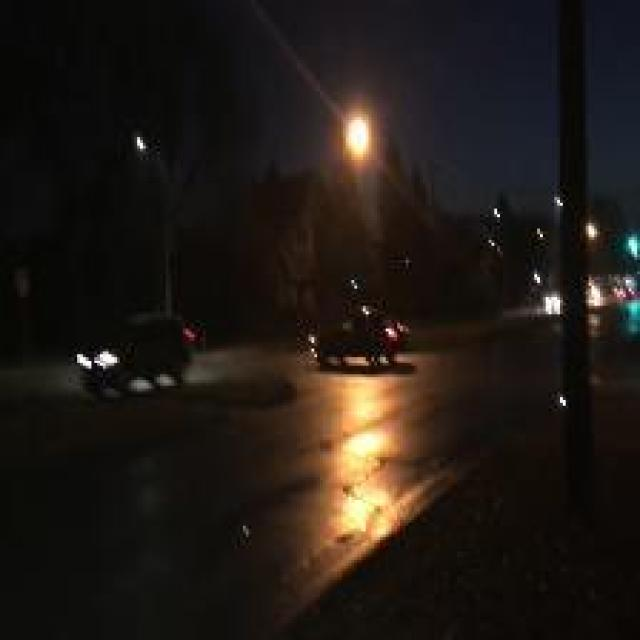other: (326, 386, 392, 543), (326, 93, 402, 182)
